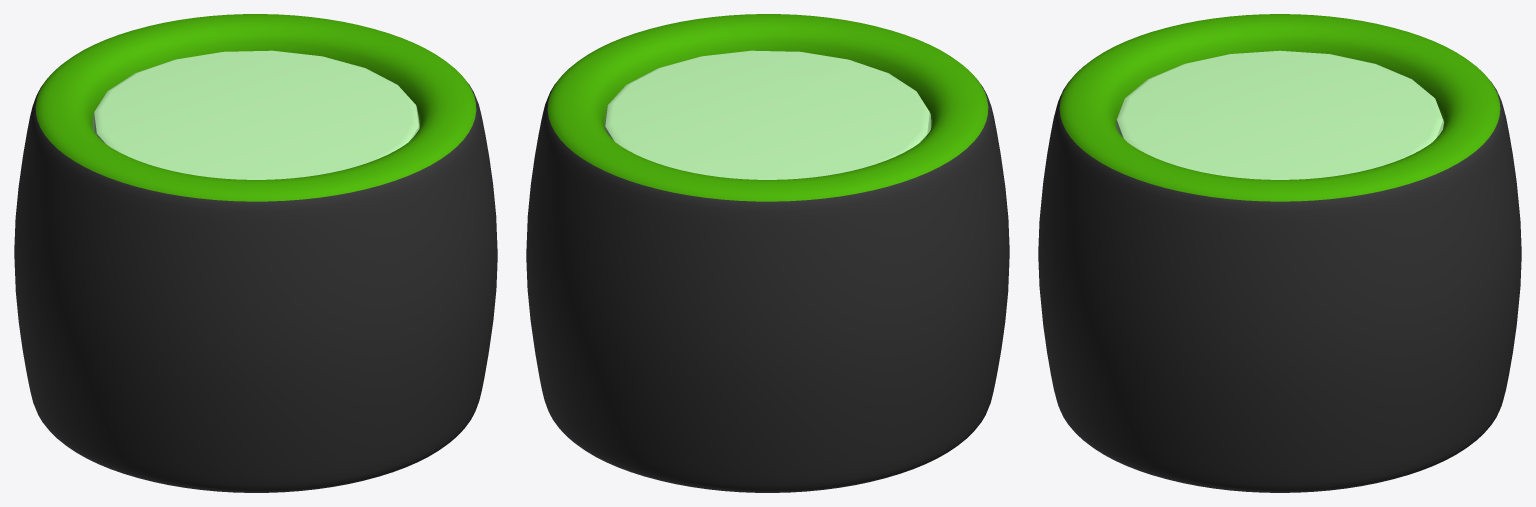
File: men.fbx
3 views of the same model, side by side, from view 1: azimuth 30°, elevation 25°; view 2: azimuth 150°, elevation 25°; view 3: azimuth 270°, elevation 25° (orthographic).
Visible parts, largest first — view 1: pCylinder1, polySurface1, polySurface2; view 2: pCylinder1, polySurface1, polySurface2; view 3: pCylinder1, polySurface1, polySurface2.
Boxes of the visible parts, bbox=[...] form: pCylinder1: bbox=[14, 14, 497, 492]; polySurface1: bbox=[178, 50, 419, 172]; polySurface2: bbox=[92, 59, 332, 179]; pCylinder1: bbox=[526, 14, 1009, 492]; polySurface1: bbox=[604, 50, 845, 172]; polySurface2: bbox=[691, 59, 931, 179]; pCylinder1: bbox=[1038, 14, 1521, 492]; polySurface1: bbox=[1116, 116, 1443, 179]; polySurface2: bbox=[1117, 50, 1442, 119].
Size of the model in its own units: 2.88 by 1.99 by 2.88.
